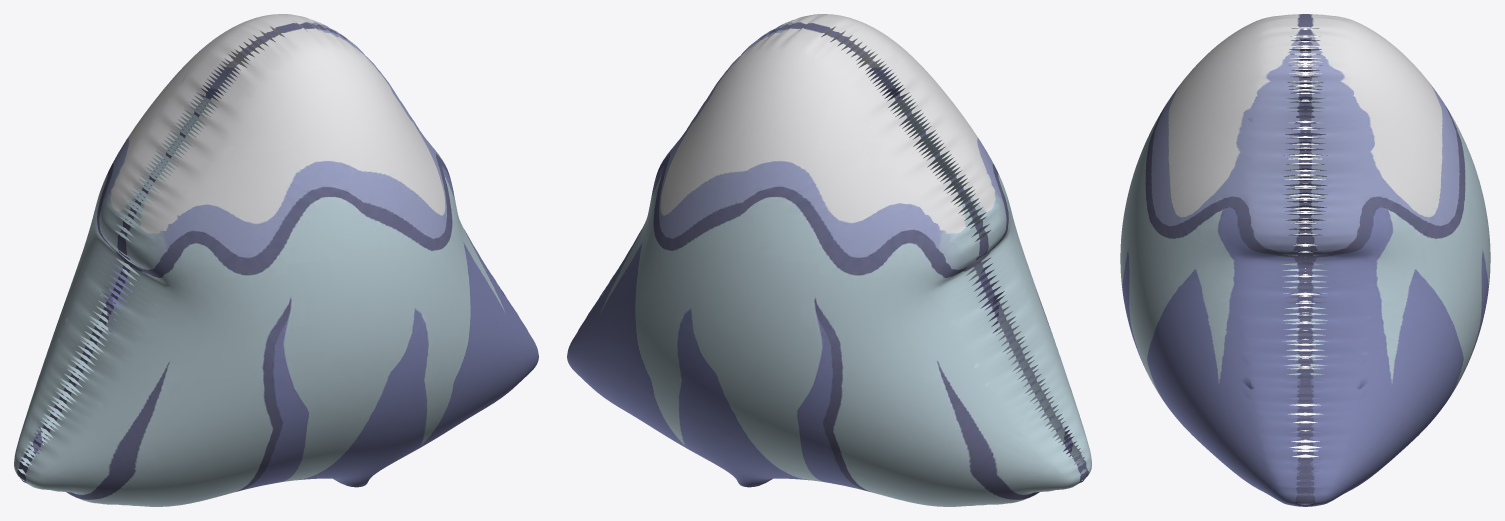
File: snow_peak.glb
3 views of the same model, side by side, from view 1: azimuth 30°, elevation 25°; view 2: azimuth 150°, elevation 25°; view 3: azimuth 270°, elevation 25° (orthographic). The views are drawn at different scales.
Parts seen in each view (by area): view 1: snow_peak; view 2: snow_peak; view 3: snow_peak.
Boxes of the visible parts, bbox=[...] form: snow_peak: bbox=[14, 14, 538, 506]; snow_peak: bbox=[567, 14, 1091, 506]; snow_peak: bbox=[1120, 14, 1490, 506].
Bounding box in the file's own units: 0.9888 × 0.8034 × 0.6489.
Materials: 1 (1 with a texture image).
